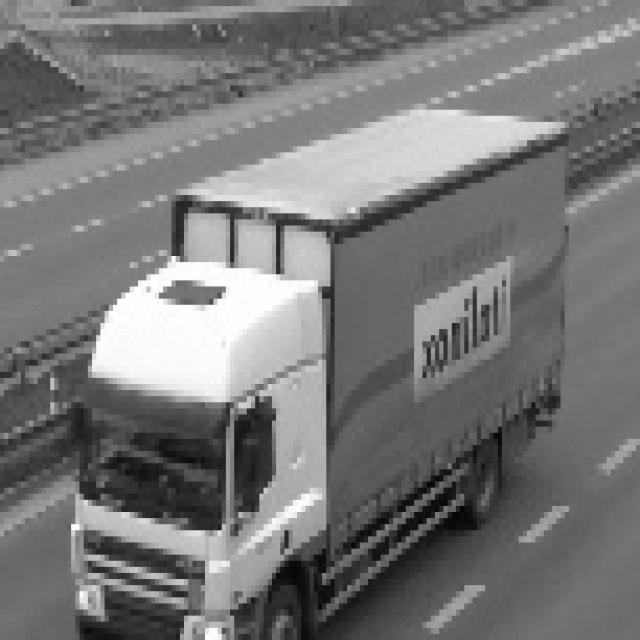truck: (38, 91, 564, 634)
